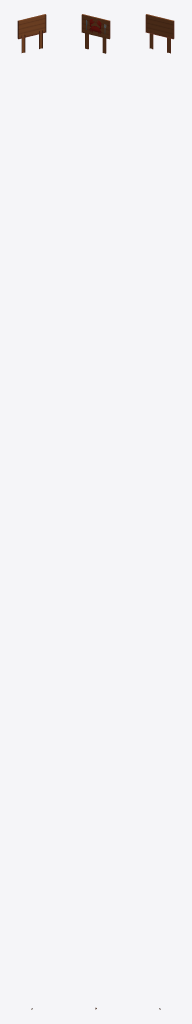
Rendered from 1.100_SanFrancisco_extra_08.glb.
The picture shows the model from 3 angles, left to right: view 1: azimuth 30°, elevation 25°; view 2: azimuth 150°, elevation 25°; view 3: azimuth 330°, elevation 25°; orthographic projection.
Visible parts, largest first — view 1: 1.100_SanFrancisco_extra_08; view 2: 1.100_SanFrancisco_extra_08; view 3: 1.100_SanFrancisco_extra_08.
Part boxes in pixels (left/top/right/bottom): 1.100_SanFrancisco_extra_08: left=17, top=14, right=46, bottom=1009; 1.100_SanFrancisco_extra_08: left=81, top=14, right=110, bottom=1009; 1.100_SanFrancisco_extra_08: left=145, top=14, right=174, bottom=1009.
Bounding box in the file's own units: 14.45 × 493 × 0.8351.
Materials: 1 (1 with a texture image).
